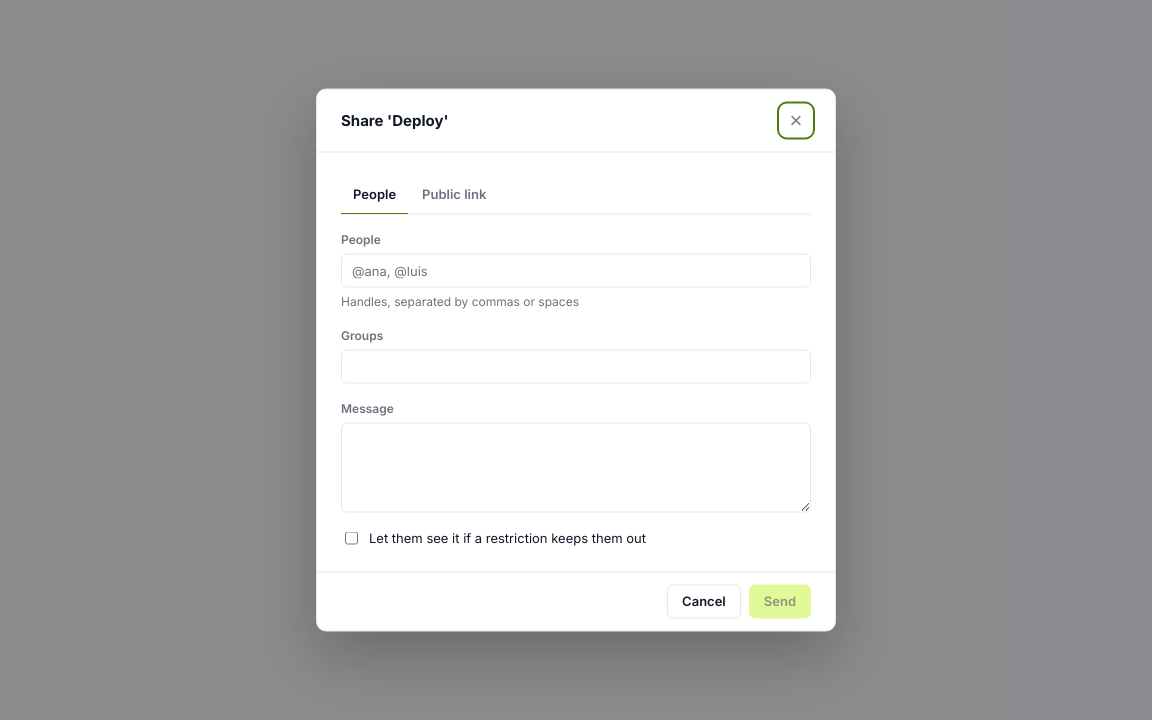
Scenario: PublicLink › revokes a link
Click the tab "Public link" at x=454, y=195, box [410, 176, 498, 214]
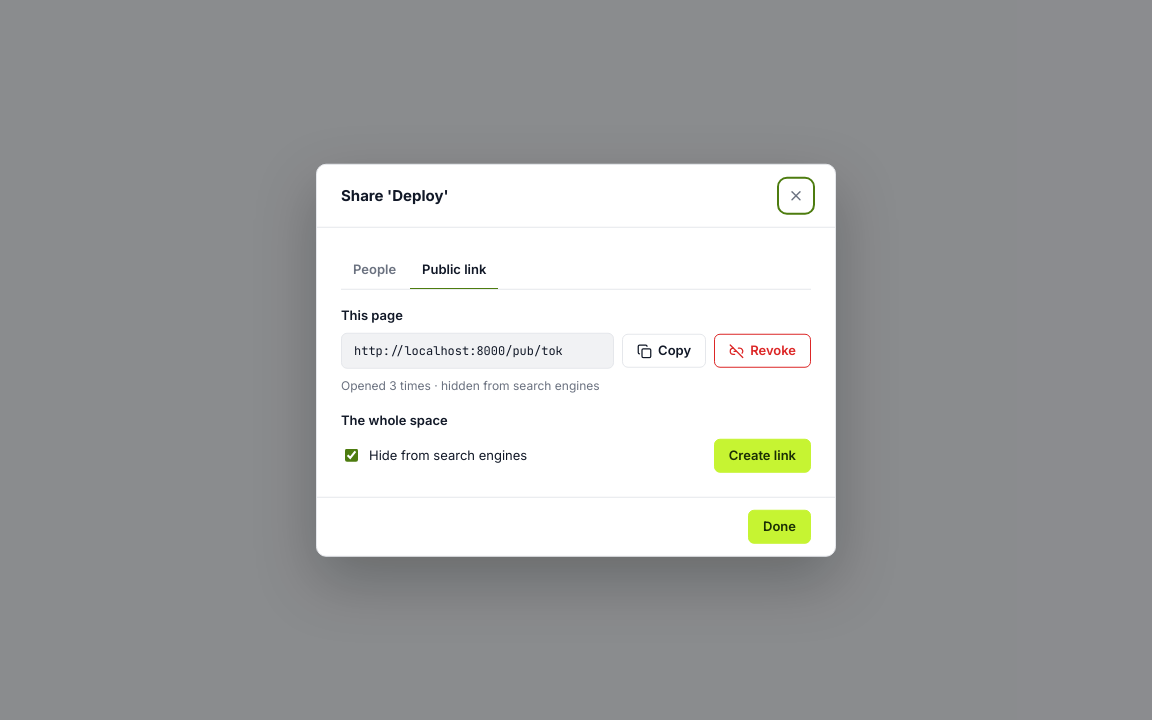
Click the button "Revoke" at x=763, y=351, box [714, 334, 811, 368]
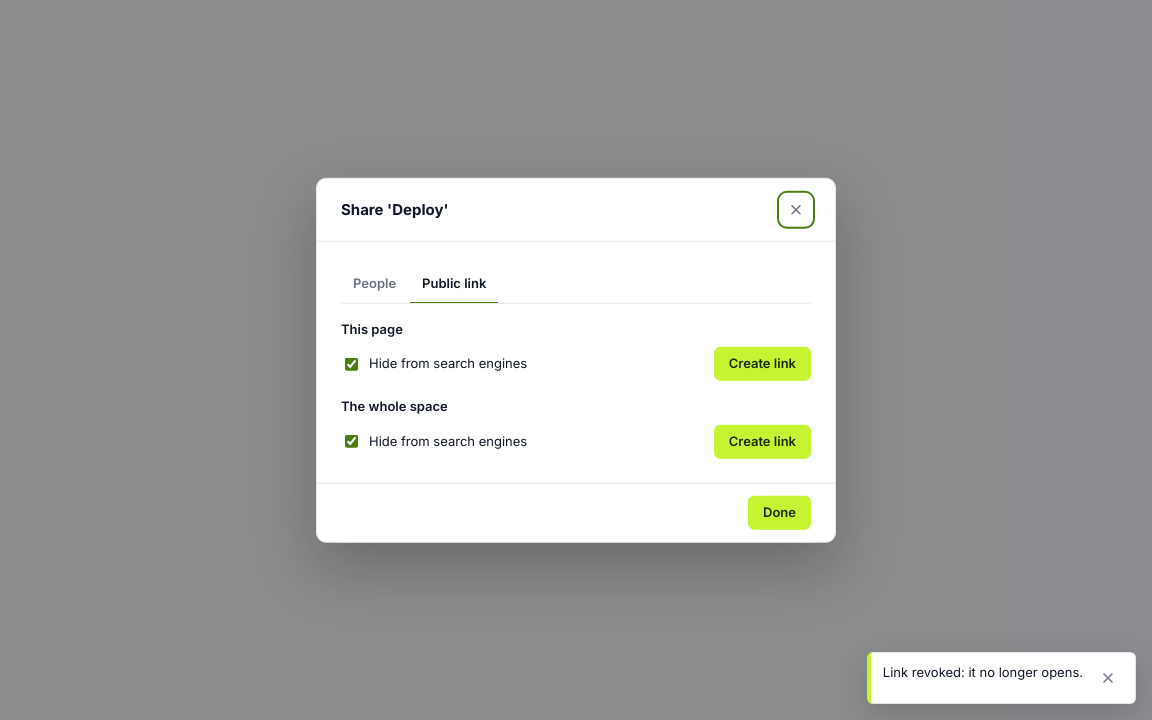
Result: the 1st button "Create link" is shown at [714, 347, 811, 381]
